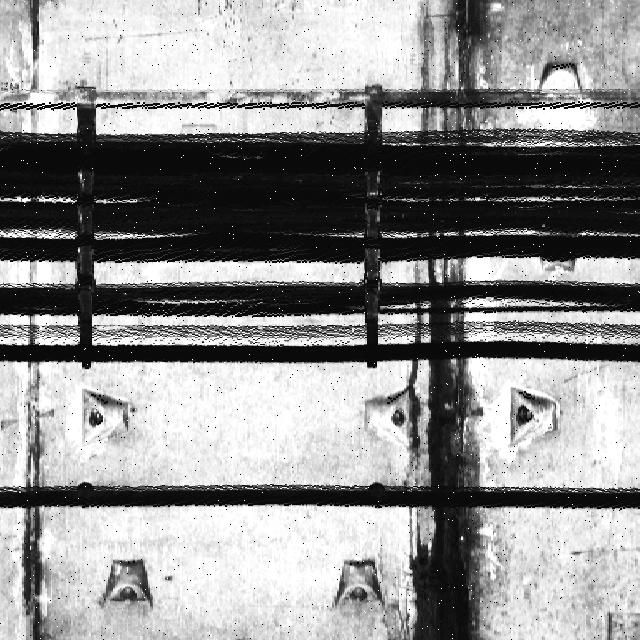leakage: (407, 256, 495, 640), (404, 1, 509, 146), (10, 371, 56, 640)
